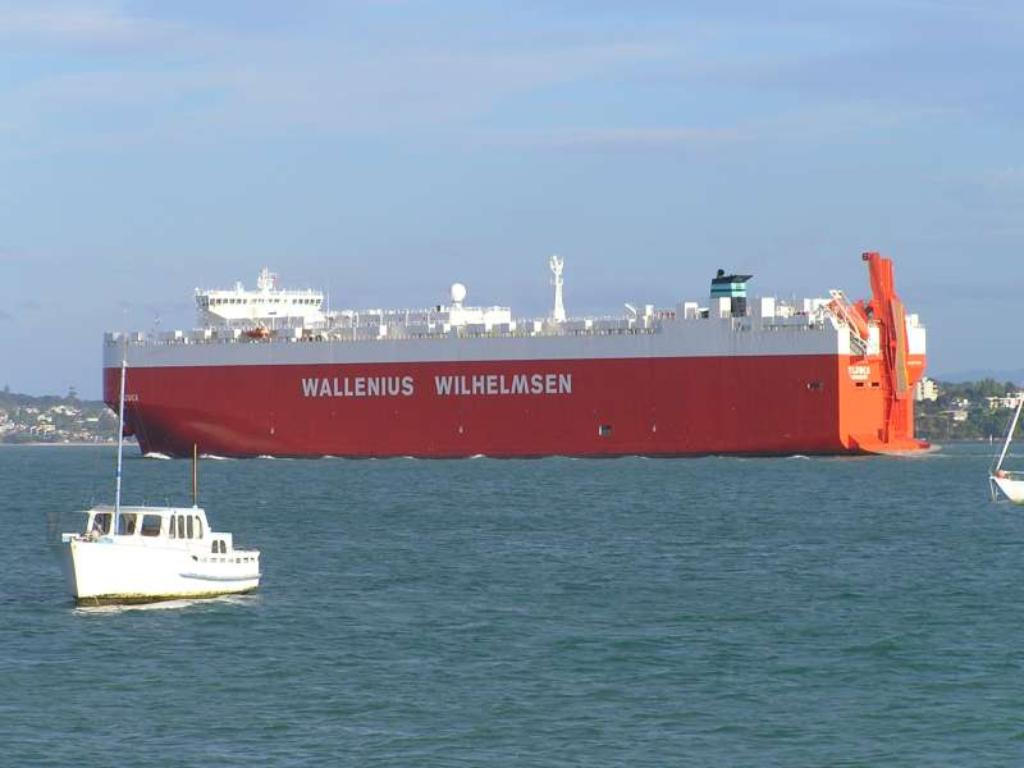PassengerShip: (56, 494, 264, 610)
